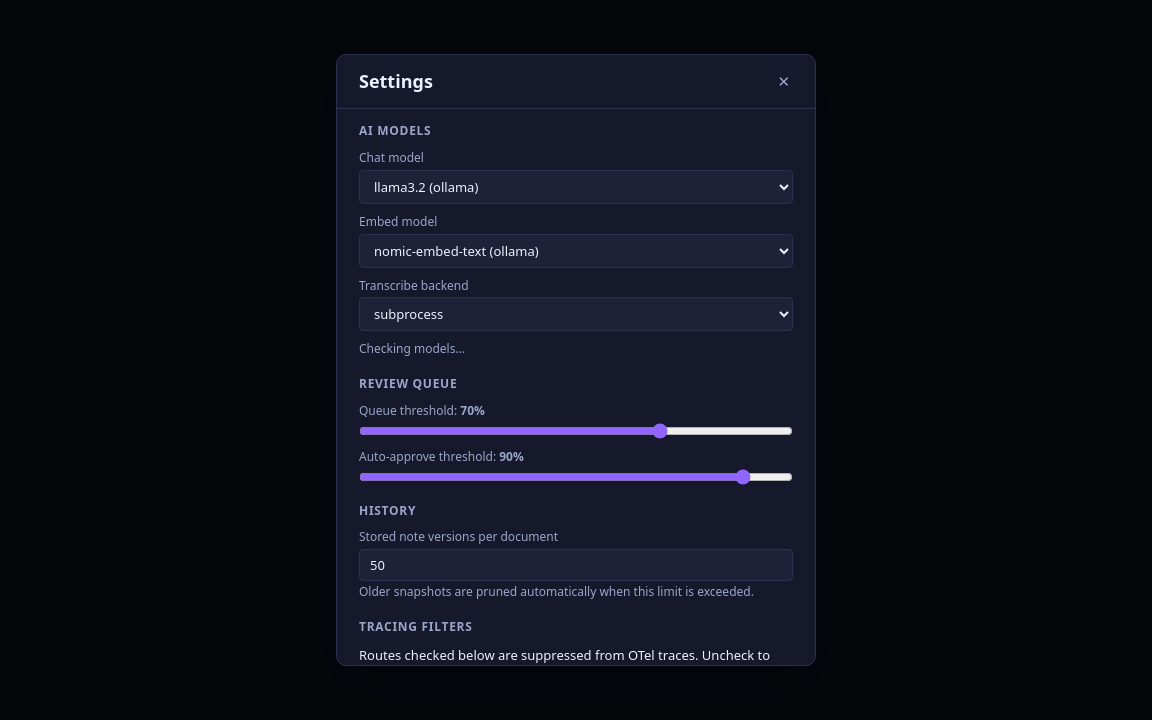
Test case: SettingsModal — patchSettings rejection › clears the error when a subsequent save succeeds
The width and height of the screenshot is (1152, 720).
# First save — triggers error
Select "qwen3:9b (ollama)" in the dropdown with test id "chat-model-select". click: (576, 187)
box: [359,170,793,204]
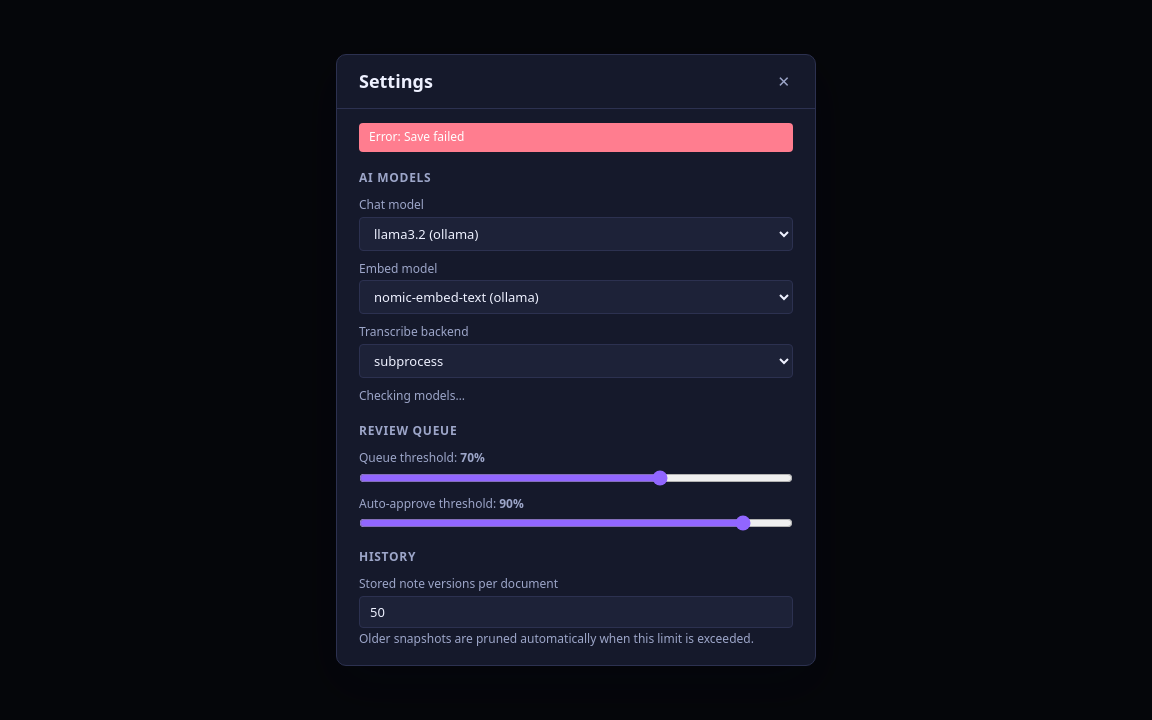
Expected: the text "Error: Save failed" is shown, [359,123,793,152]
# Second save — should clear the error
Select "qwen3:9b (ollama)" in the dropdown with test id "chat-model-select". click: (576, 234)
box: [359,217,793,251]
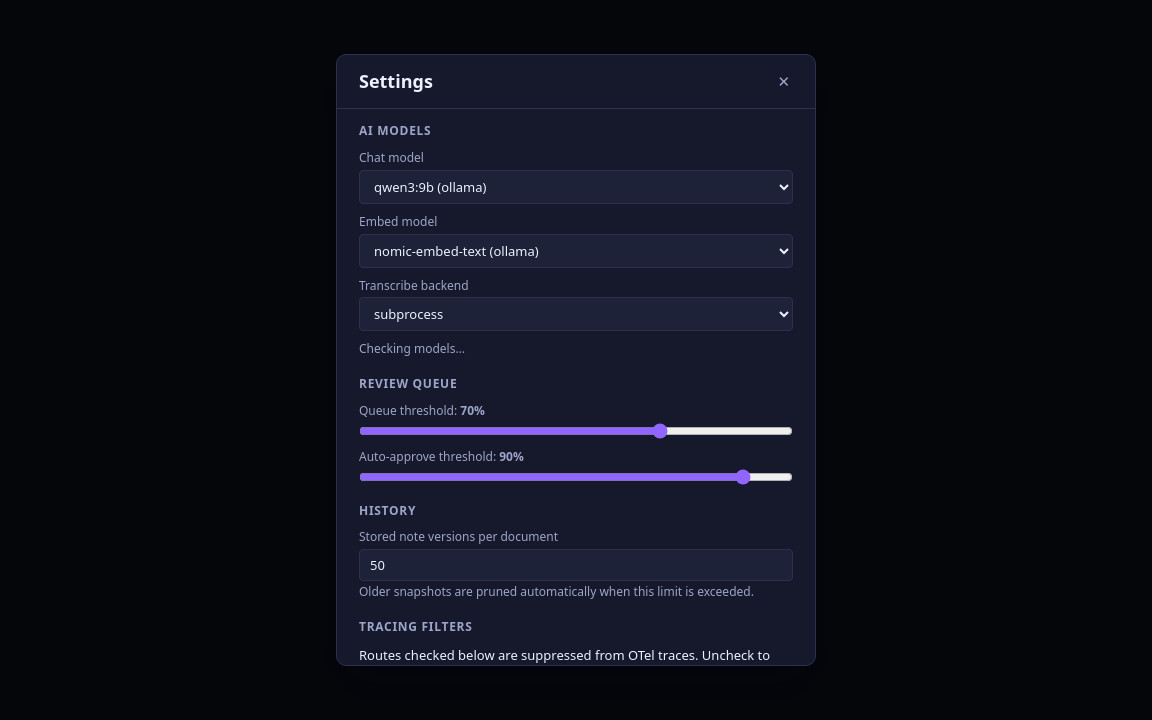
Expected: the text with test id "settings-error" is gone
